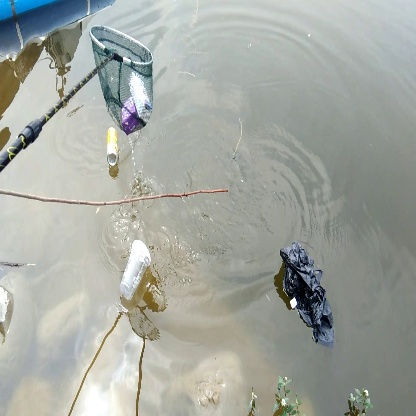bottle: (117, 235, 155, 305)
plastic-bag: (275, 242, 338, 344)
